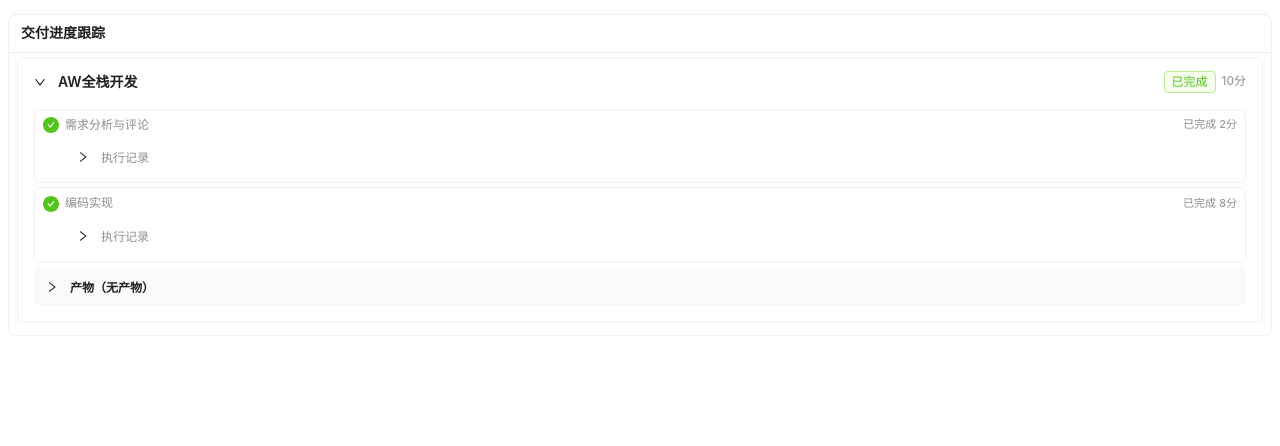
Scenario: DeliveryProgress › keeps every completed step expandable inside a finished agent group
Expected: the element with test id "delivery-step-101" is shown, [34,108,1246,183]
Click the button "执行记录" below "编码实现".
click(113, 237)  # box [77,229,149,244]
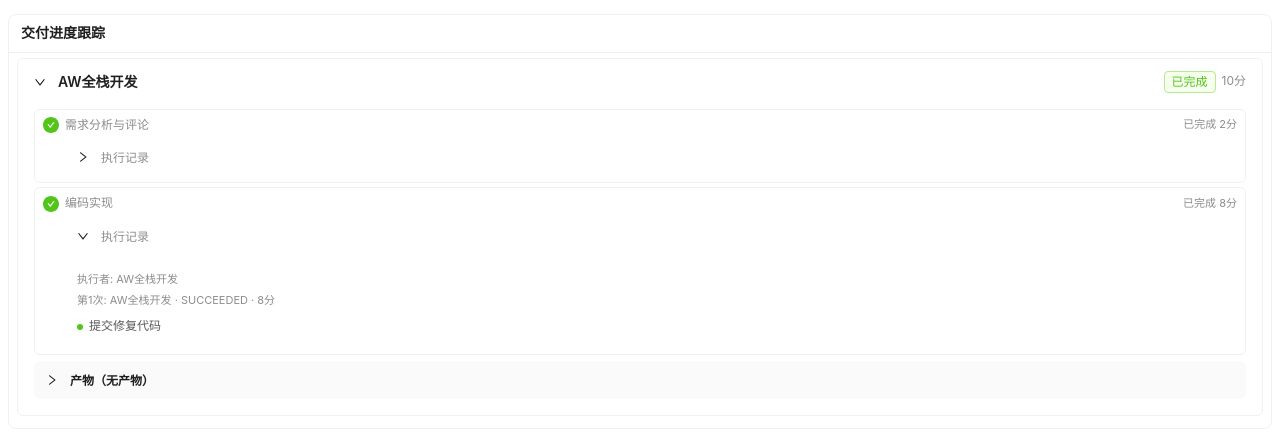
Result: the text "第1次: AW全栈开发 · SUCCEEDED · 8分" is shown at [77,294,275,308]
Result: the text "提交修复代码" is shown at [89,317,161,336]
